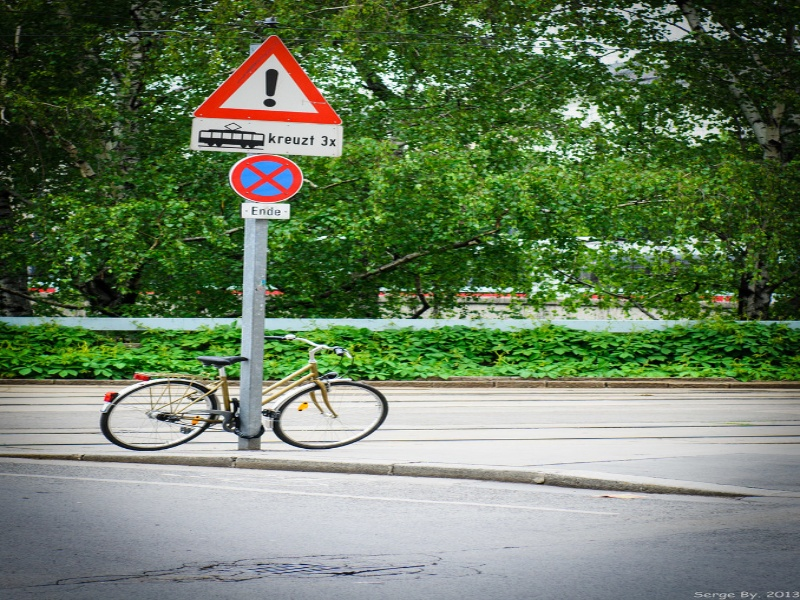no_entry: (229, 151, 304, 205)
warning: (189, 31, 347, 130)
